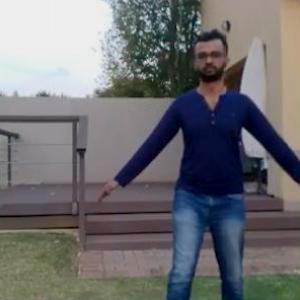land: (110, 51, 289, 299)
